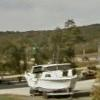Boat: (17, 60, 98, 100)
